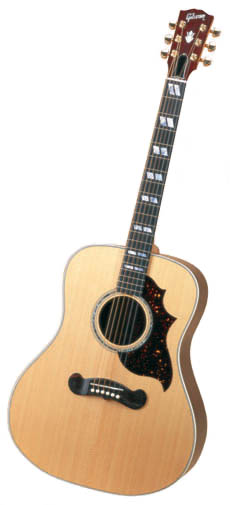guitar: (5, 7, 222, 497)
